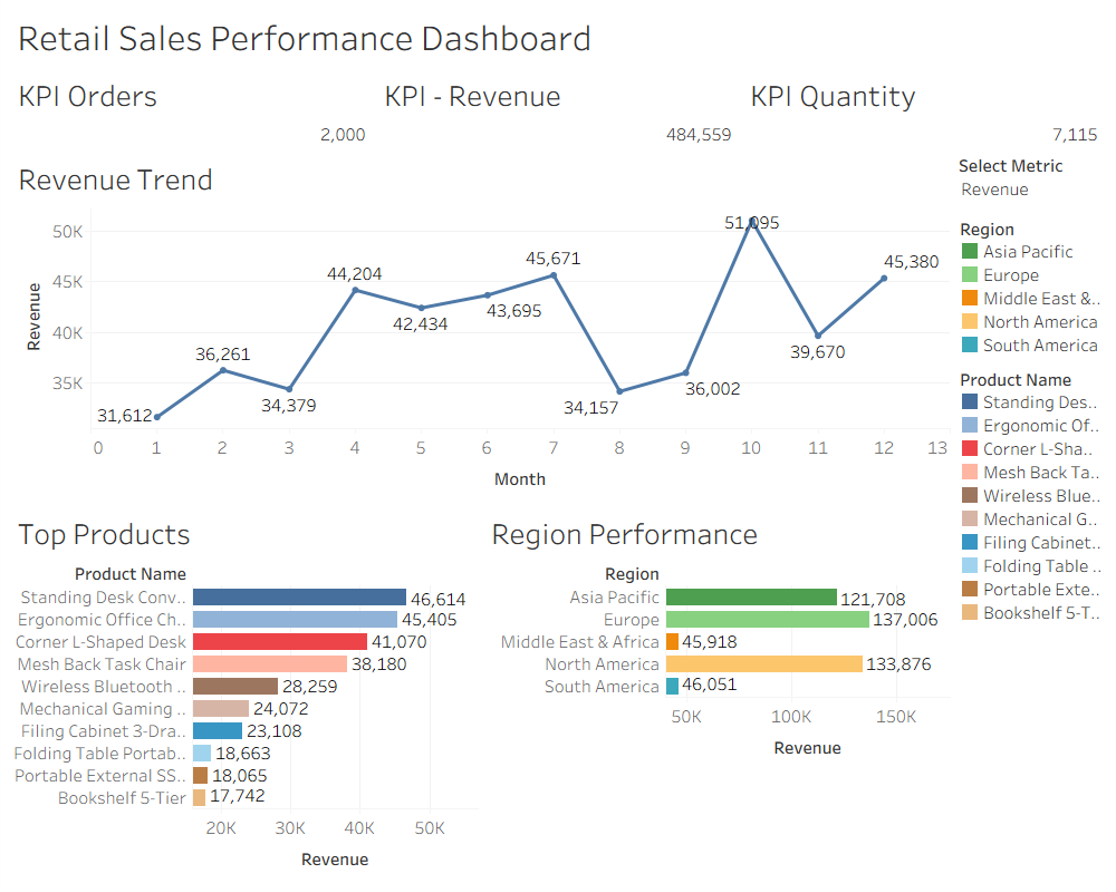

Layout of this report page (visuals, bound fields, positions):
{"tool":"tableau","page":{"name":"Dashboard 1","canvas":[1000,800],"ordinal":0},"visuals":[{"type":"title","box":[8,8,984,50]},{"type":"worksheet","title":"Sheet 5","mark":"Automatic","box":[8,58,328,75]},{"type":"worksheet","title":"Sheet 4","mark":"Automatic","box":[336,58,328,75]},{"type":"worksheet","title":"Sheet 6","mark":"Automatic","box":[664,58,328,75]},{"type":"worksheet","title":"Sheet 7","mark":"Automatic","rows":["Calculation_1340634645676032"],"cols":["order_date"],"box":[8,133,847,318]},{"type":"parameter","param":"[Parameters].[Parameter 1]","box":[855,133,137,56]},{"type":"legend","title":"Sheet 8","param":"[federated.03jz4r80u08hm81di6z9718zml38].[none:region:nk]","box":[855,189,137,135]},{"type":"legend","title":"Sheet 9","param":"[federated.03jz4r80u08hm81di6z9718zml38].[none:product_name:nk]","box":[855,324,137,240]},{"type":"worksheet","title":"Sheet 9","mark":"Automatic","rows":["product_name"],"cols":["Calculation_1340634645676032"],"box":[8,451,423.5,341]},{"type":"worksheet","title":"Sheet 8","mark":"Automatic","rows":["region"],"cols":["Calculation_1340634645676032"],"box":[431.5,451,423.5,341]}]}

Visuals, with their boxes in screenshot pixels (x1, y1, x2, y2), scaled from the page's 1000x800 canvas onto the 1116x892 screenshot:
title: detection(9, 9, 1107, 65)
"Sheet 5" worksheet: detection(9, 65, 375, 148)
"Sheet 4" worksheet: detection(375, 65, 741, 148)
"Sheet 6" worksheet: detection(741, 65, 1107, 148)
"Sheet 7" worksheet: detection(9, 148, 954, 503)
parameter: detection(954, 148, 1107, 211)
"Sheet 8" legend: detection(954, 211, 1107, 361)
"Sheet 9" legend: detection(954, 361, 1107, 629)
"Sheet 9" worksheet: detection(9, 503, 482, 883)
"Sheet 8" worksheet: detection(482, 503, 954, 883)
